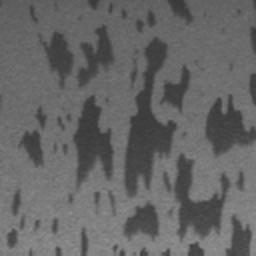Red iron sheet: (0, 0, 251, 256), (205, 73, 256, 155), (236, 0, 256, 54), (12, 192, 20, 214), (8, 230, 16, 246), (82, 232, 87, 256), (53, 220, 57, 232)
